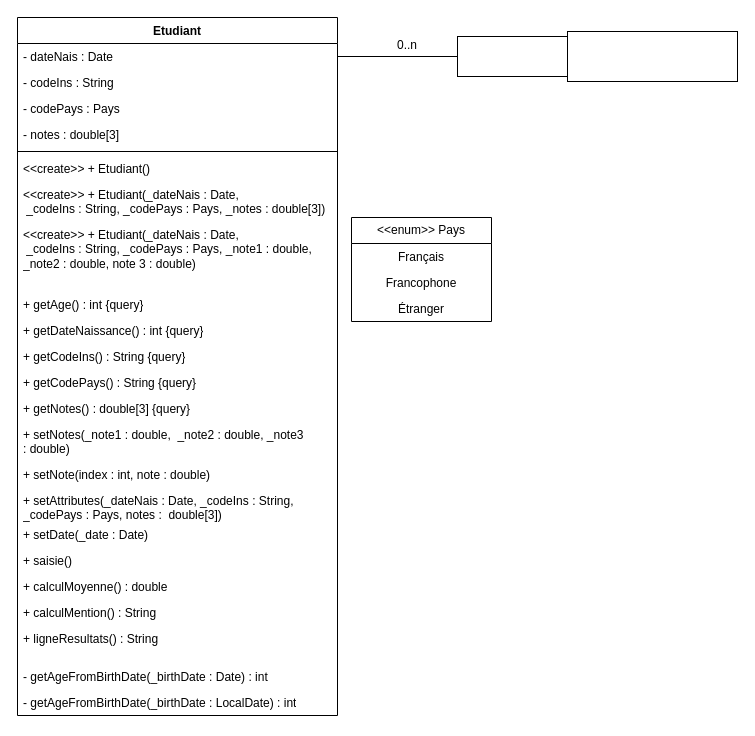
Some shapes in this 755 by 736 pixel diagram are drawn without their labels. Here are the shapes that lost their labels. From the top down, the centre of each, then its label:
At point 512,56: "name annee".
At point 652,56: "Promotion".
